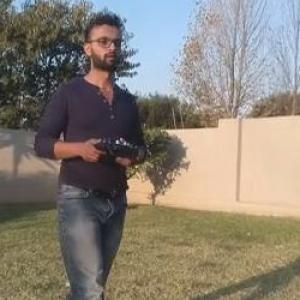follow: (24, 0, 152, 299)
